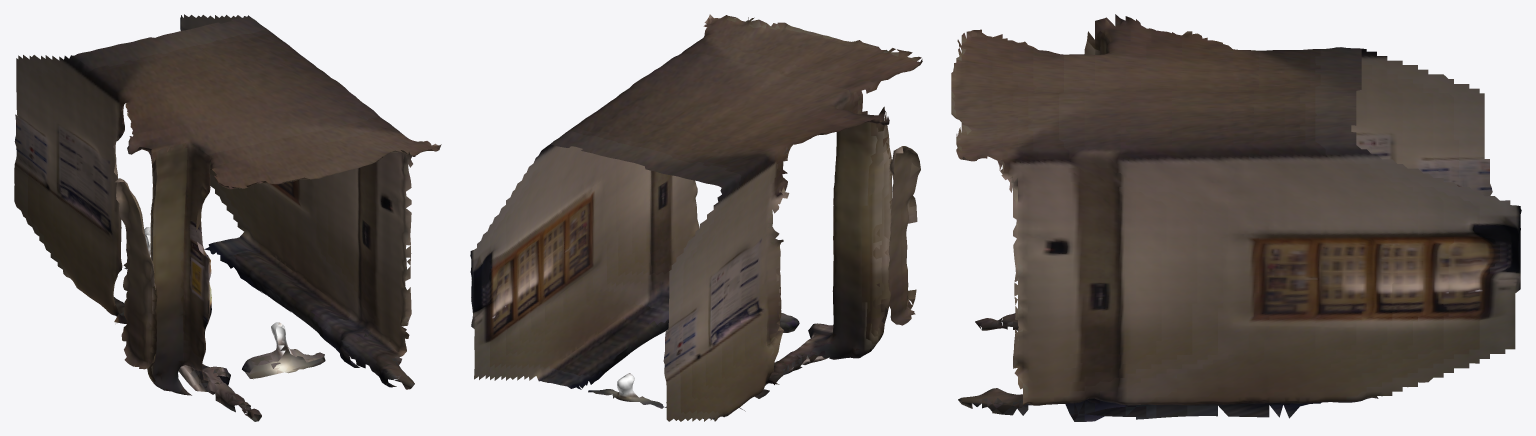
File: Hall2.obj
The picture shows the model from 3 angles, left to right: view 1: azimuth 30°, elevation 25°; view 2: azimuth 150°, elevation 25°; view 3: azimuth 270°, elevation 25°; orthographic projection. The views are drawn at different scales.
Size of the model in its own units: 3.61 by 3.46 by 6.13.
1 material, 1 textured.
